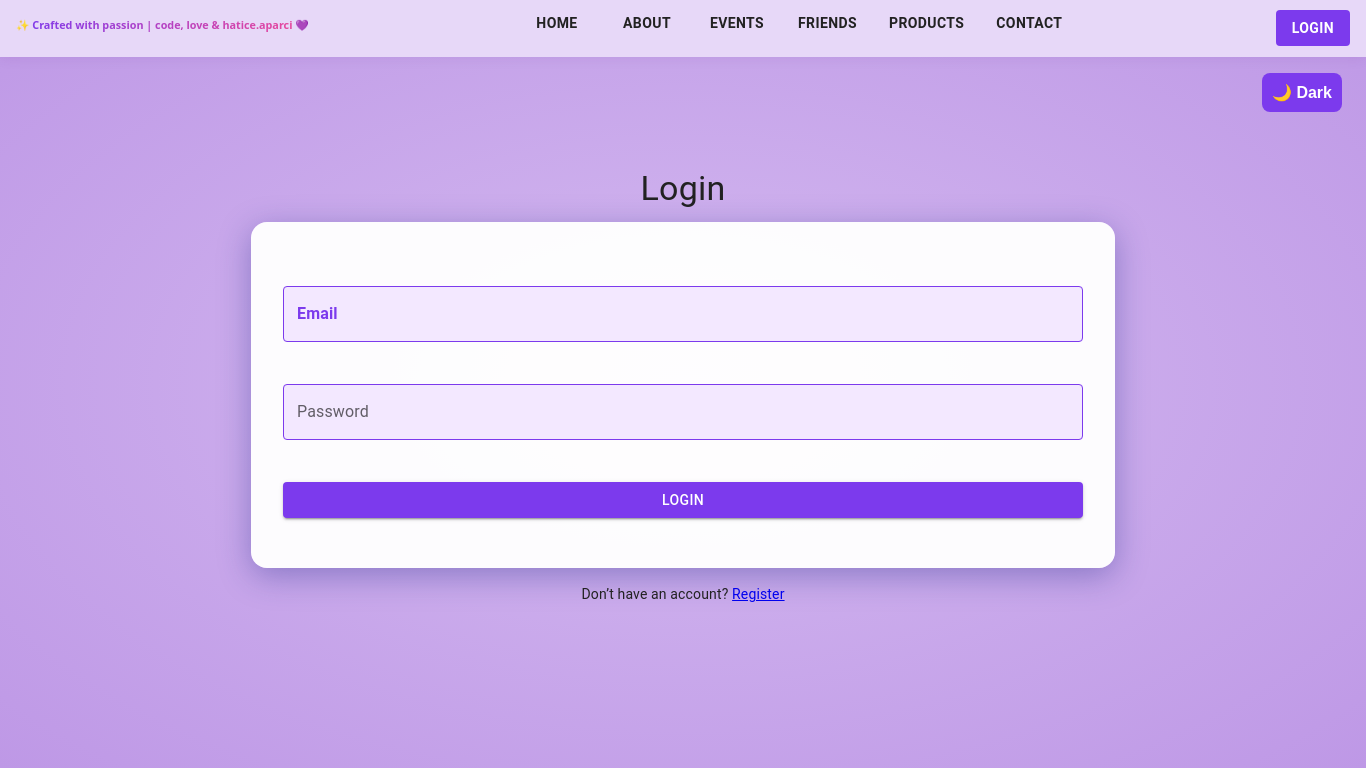
Scenario: Login Page E2E Tests › 3️⃣ Login successfully with correct credentials
In the field with id "login-email": [683, 314] box [283,286,1083,342], type "testuser@example.com"
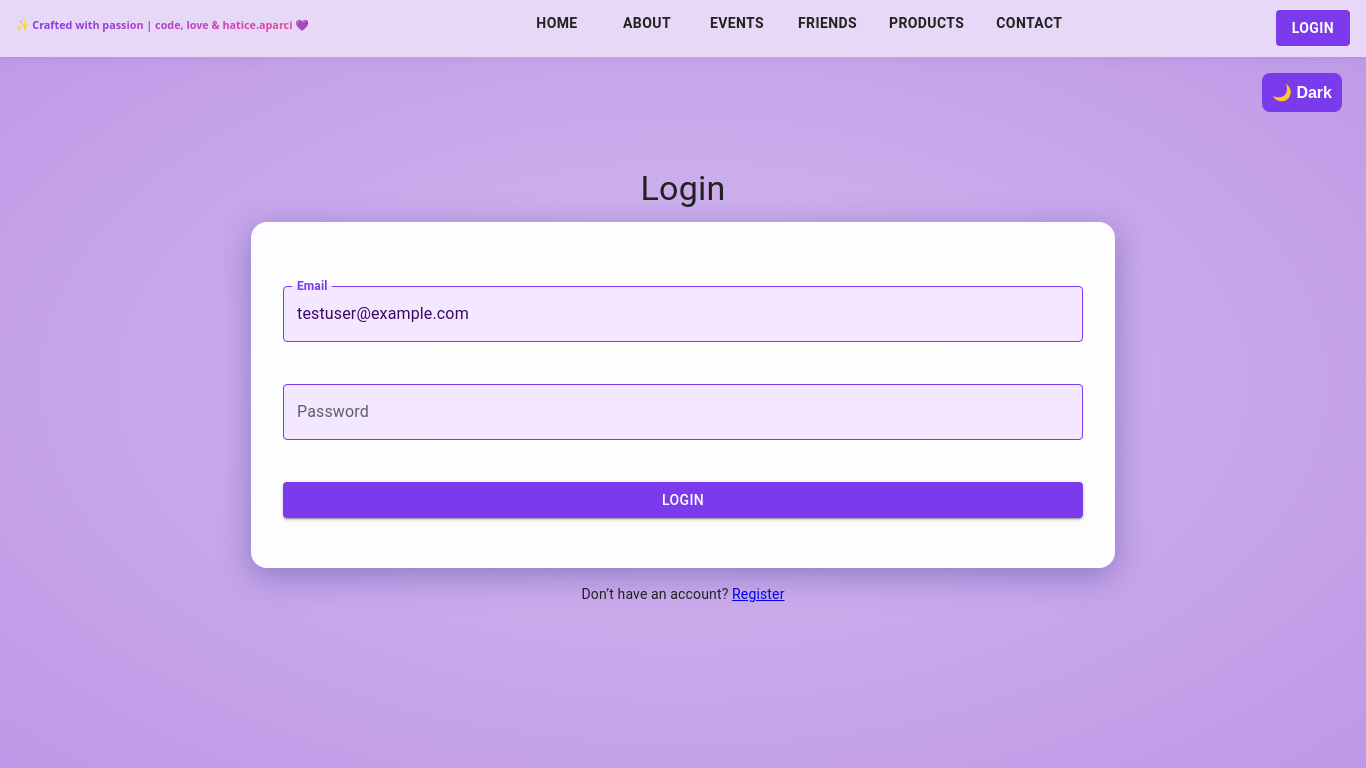
In the password field with id "login-password": [683, 412] box [283,384,1083,440], type "password123"
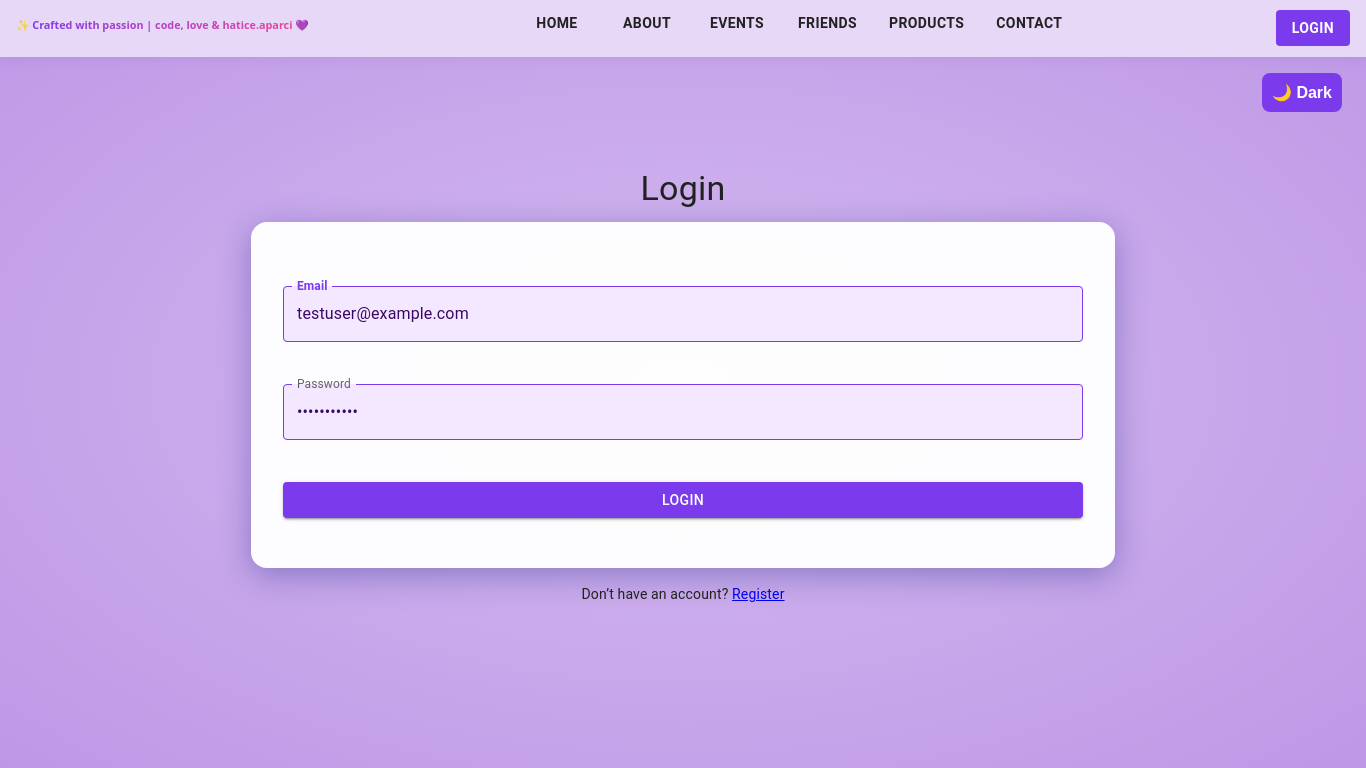
Click the button with id "login-btn": [683, 501] box [283,482,1083,519]
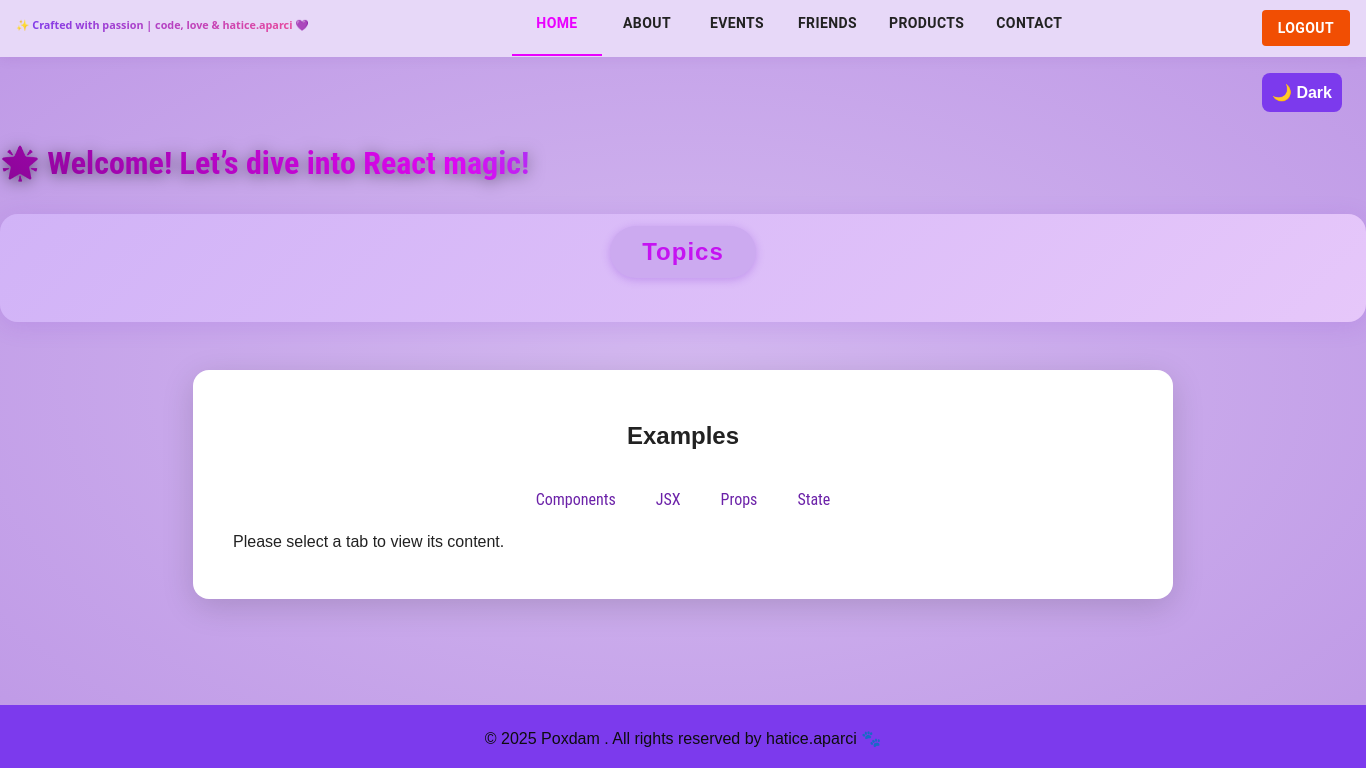
Check: the heading "🌟 Welcome! Let’s dive into React magic!" is shown, box [0,144,1365,182]
